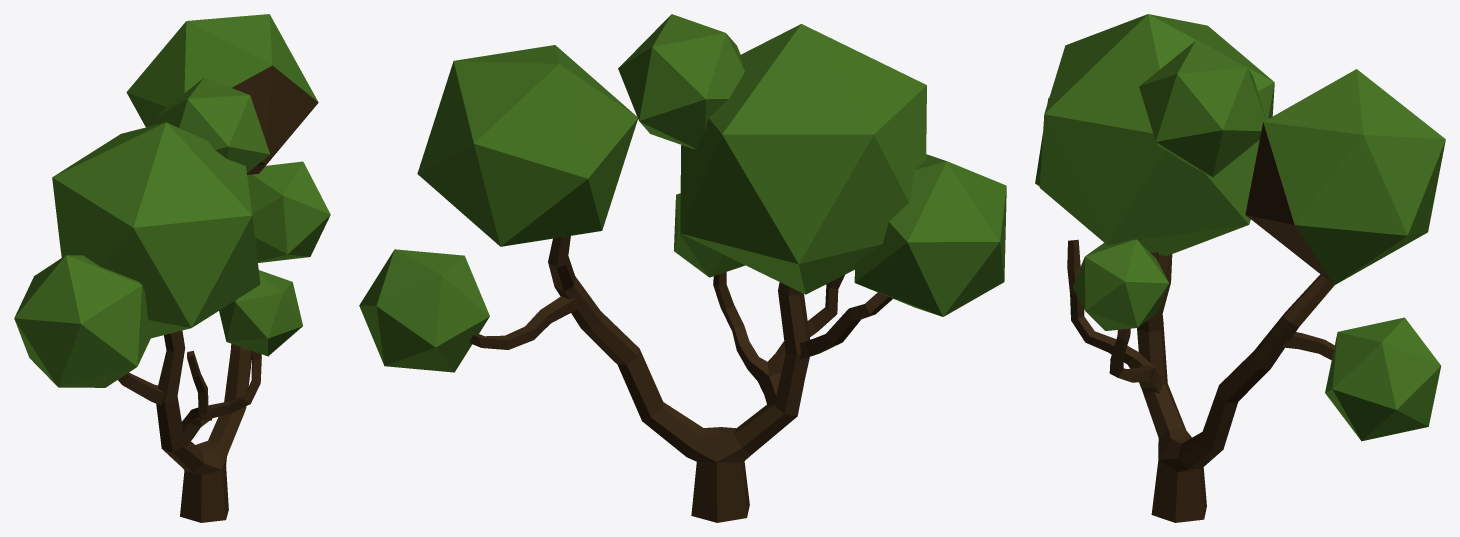
The model's file is arbol.obj.
3 views of the same model, side by side, from view 1: azimuth 30°, elevation 25°; view 2: azimuth 150°, elevation 25°; view 3: azimuth 270°, elevation 25° (orthographic). The views are drawn at different scales.
Visible parts, largest first — view 1: Tree_lp_11; view 2: Tree_lp_11; view 3: Tree_lp_11.
Boxes of the visible parts, bbox=[...] form: Tree_lp_11: bbox=[14, 14, 330, 522]; Tree_lp_11: bbox=[359, 14, 1006, 522]; Tree_lp_11: bbox=[1035, 14, 1445, 522].
Bounding box in the file's own units: 27.98 × 26.54 × 20.8.
